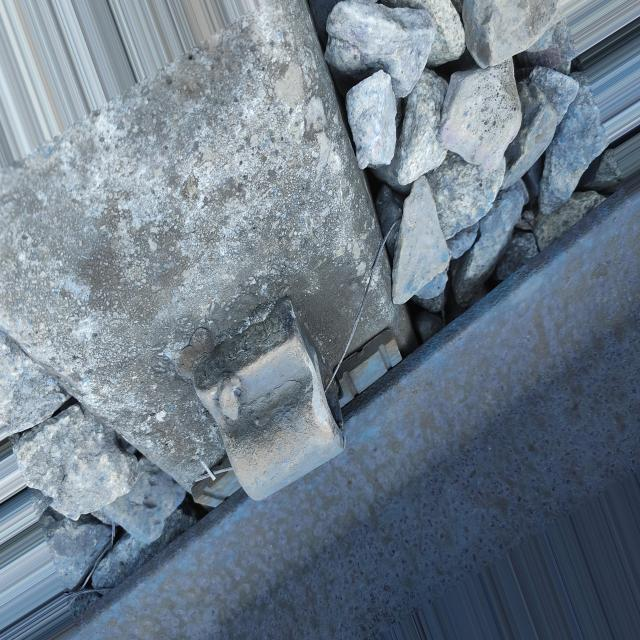Missing Fastener: (165, 274, 386, 534)
